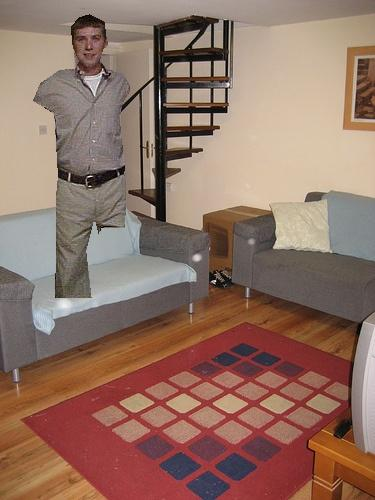tampered: (34, 15, 130, 298)
